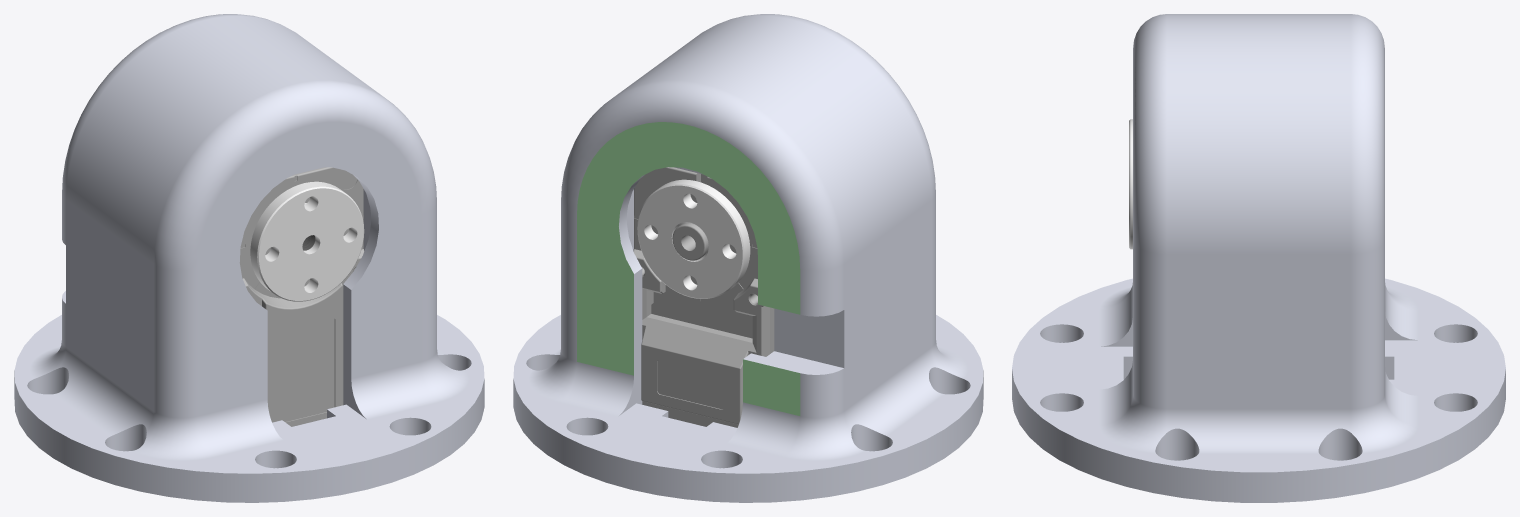
3 renders of one model, left to right at view 1: azimuth 30°, elevation 25°; view 2: azimuth 150°, elevation 25°; view 3: azimuth 270°, elevation 25°, orthographic. The views are drawn at different scales.
Parts seen in each view (by area): view 1: 3DGeom-88, Body_1 (×2); view 2: 3DGeom-88, Body_1 (×2), 3DGeom-87; view 3: 3DGeom-88.
Part boxes in pixels (bbox=[...]): 3DGeom-88: bbox=[14, 14, 484, 502]; Body_1 (×2): bbox=[239, 167, 364, 426]; 3DGeom-88: bbox=[513, 14, 983, 502]; Body_1 (×2): bbox=[633, 167, 774, 427]; 3DGeom-87: bbox=[577, 122, 800, 415]; 3DGeom-88: bbox=[1012, 14, 1505, 502].
Size of the model in its own units: 7.29e-05 by 6.03e-05 by 7.3e-05.
